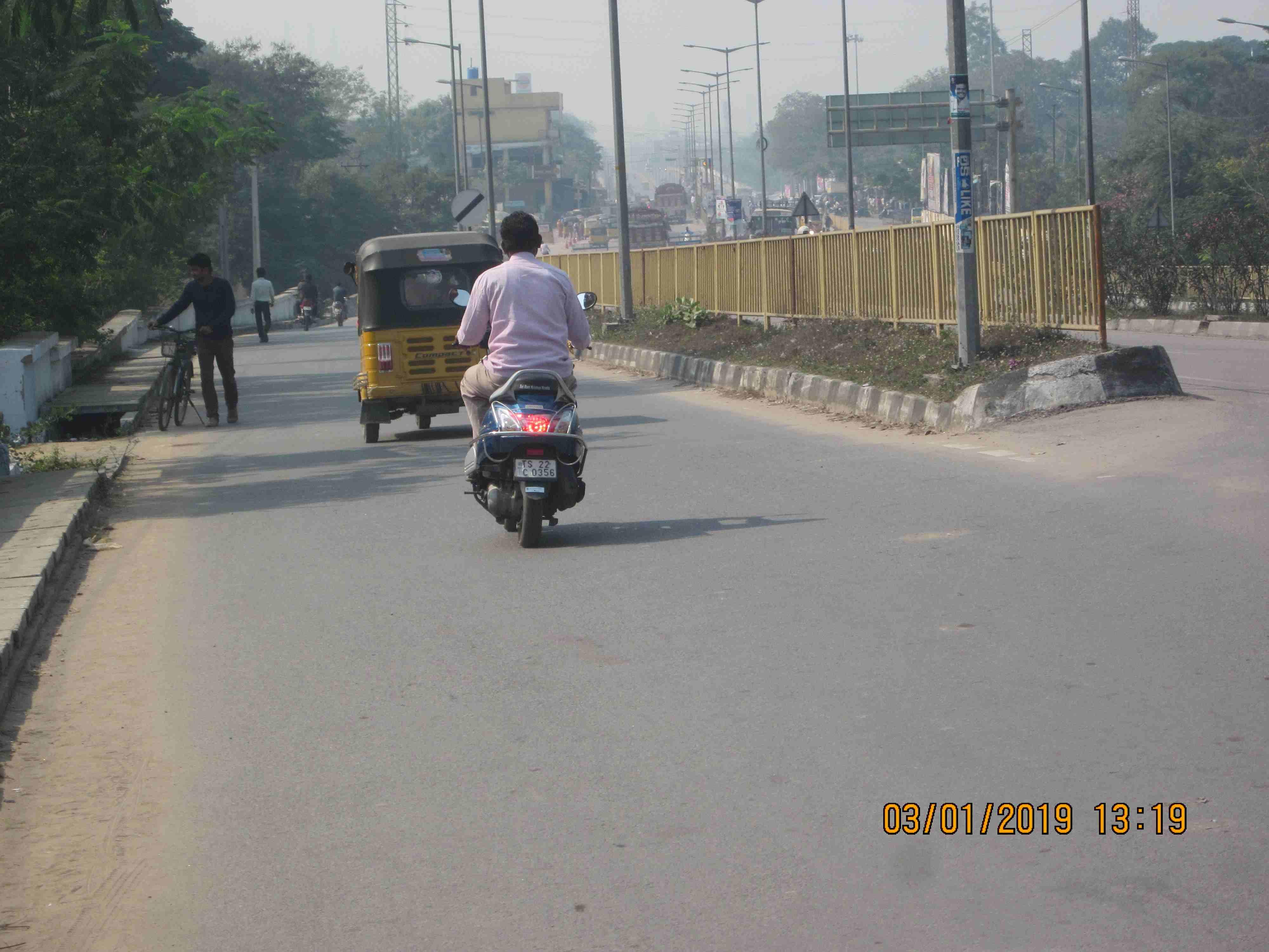plate: (504, 443, 565, 486)
